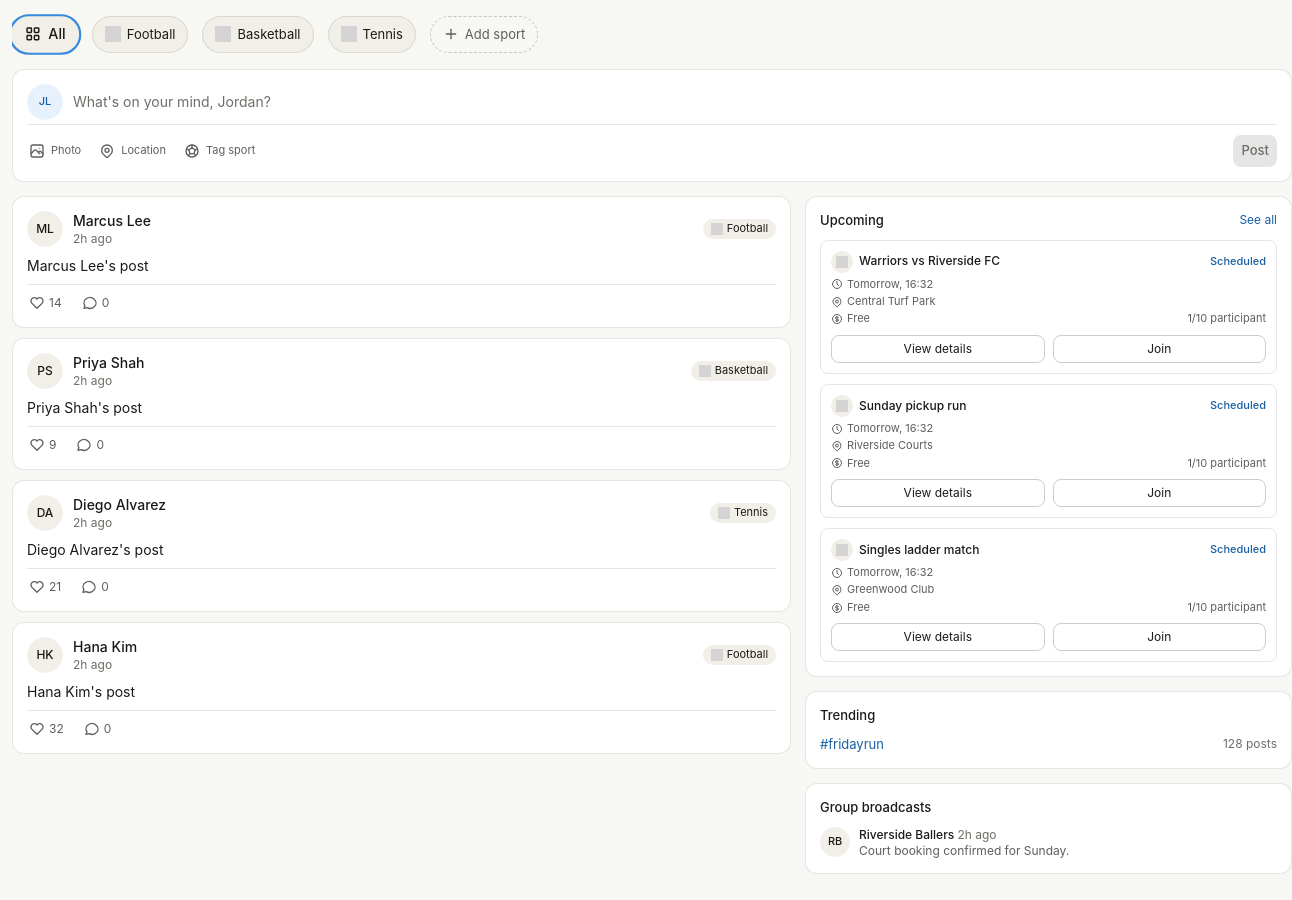
HomeFeedPage › creating a post via the composer prepends it to the feed and clears the textarea
Type "Fresh off the pitch!" into the text box named "Create a post" at (675, 102), box [73, 84, 1277, 120]
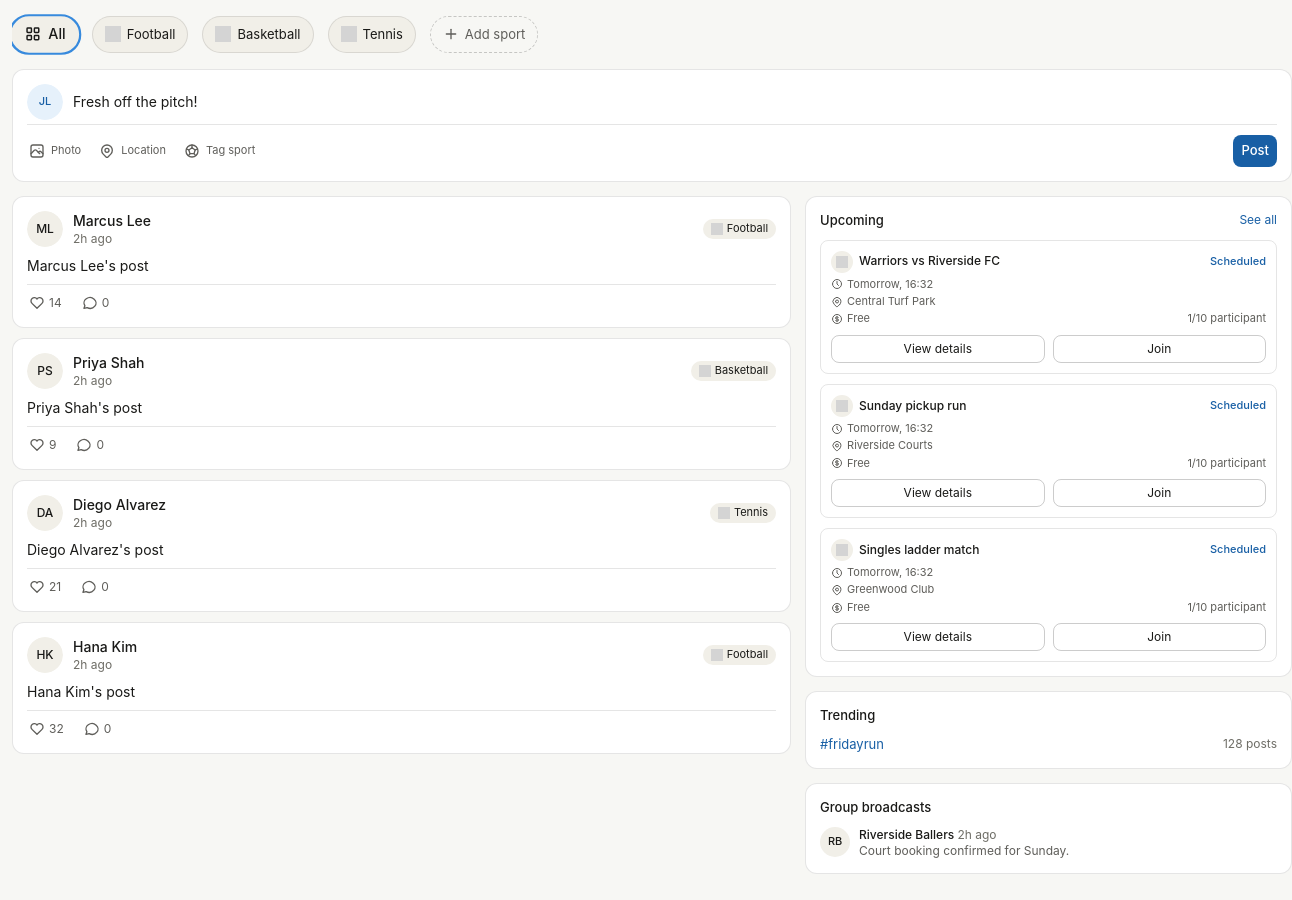
Click the button "Post" at (1255, 151), box [1234, 135, 1277, 167]
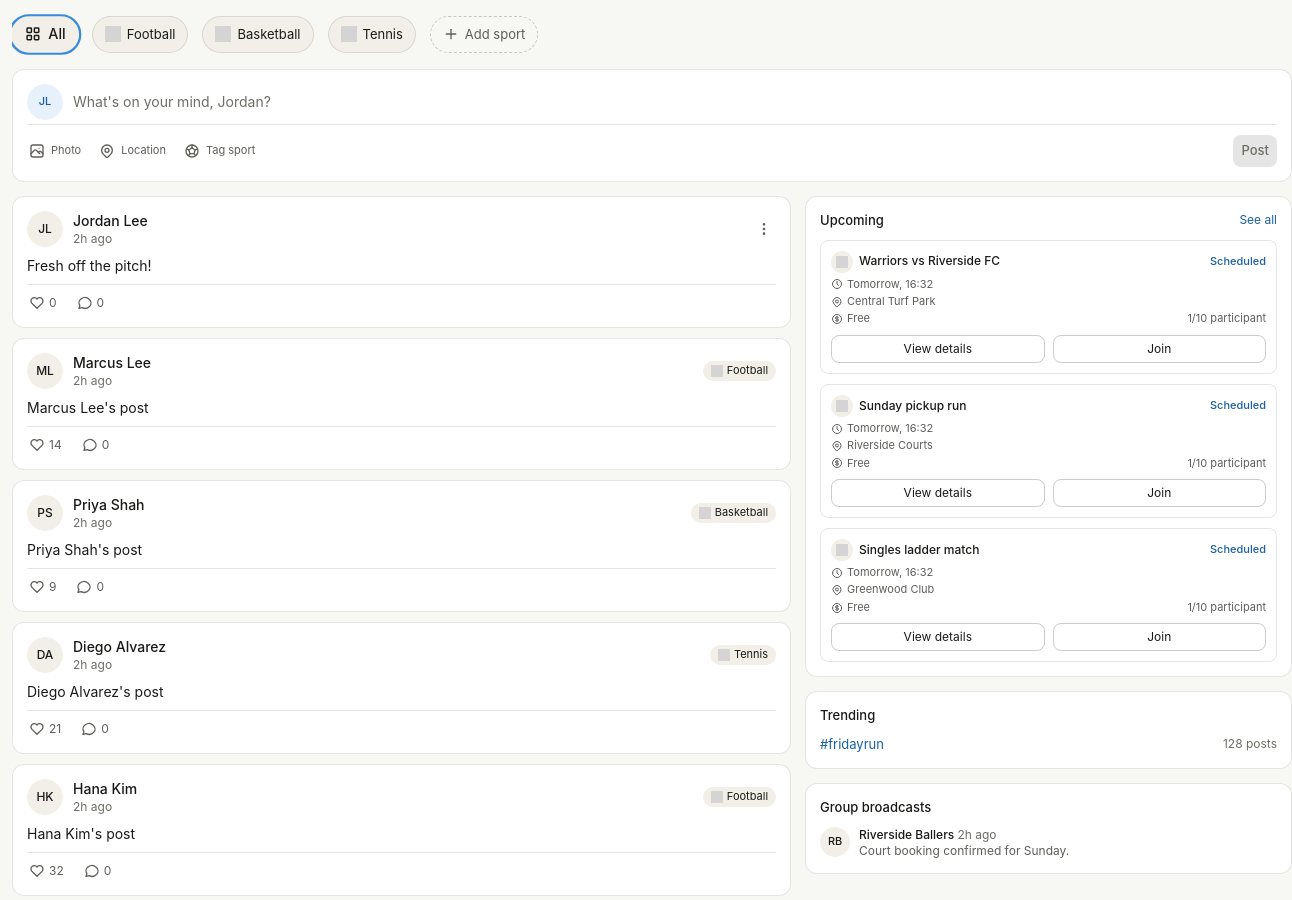
Expected: the element showing "JL Jordan Lee 2h ago Fresh off the pitch! 0 0" is shown, [12, 196, 791, 328]
Expected: the text box named "Create a post" is empty, [73, 84, 1277, 120]
